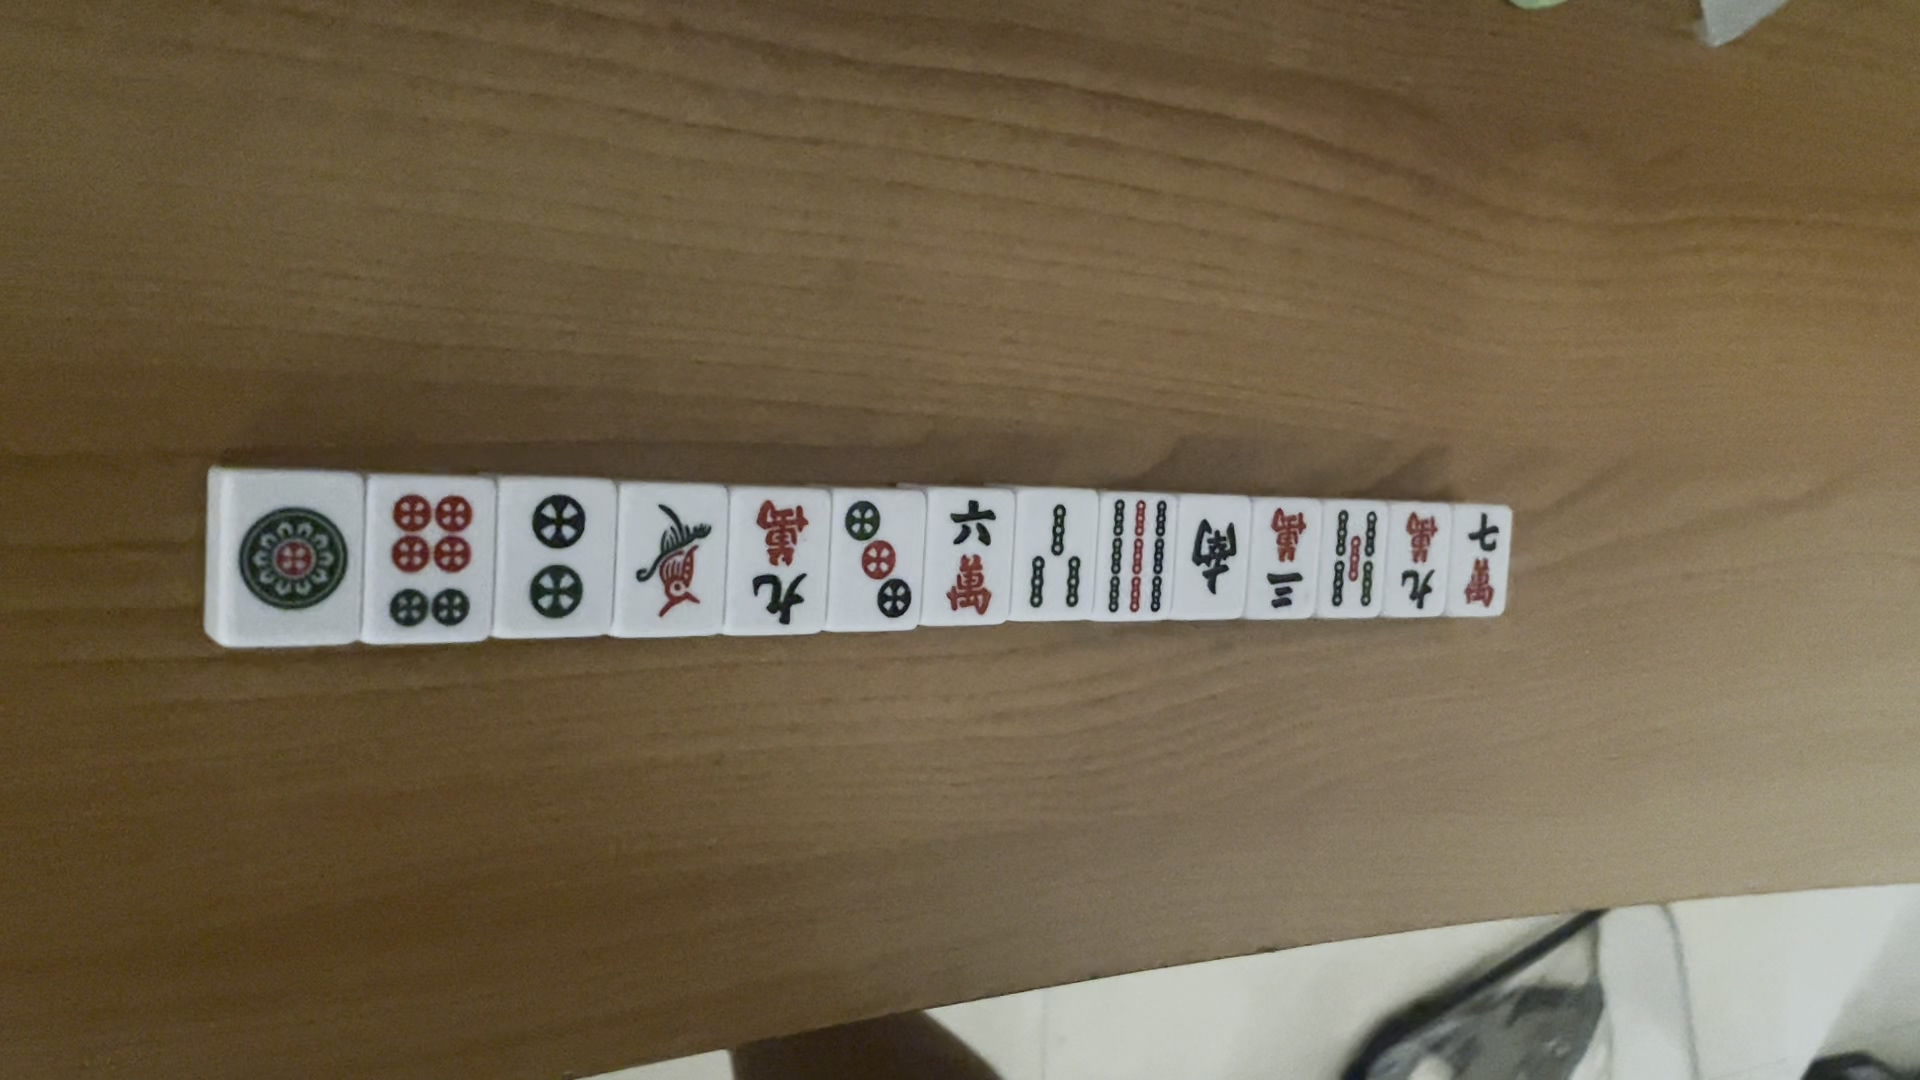b-1: (625, 493, 717, 625)
b-3: (1025, 498, 1089, 612)
b-5: (1328, 506, 1386, 615)
b-9: (1104, 495, 1171, 615)
c-3: (1261, 502, 1313, 615)
c-6: (939, 496, 1002, 618)
c-7: (1458, 505, 1507, 615)
c-9: (738, 491, 819, 628), (1393, 508, 1443, 612)
d-1: (232, 493, 352, 620)
d-2: (518, 485, 589, 621)
d-3: (837, 498, 916, 626)
d-6: (378, 488, 483, 633)
honors-south: (1183, 512, 1241, 595)
